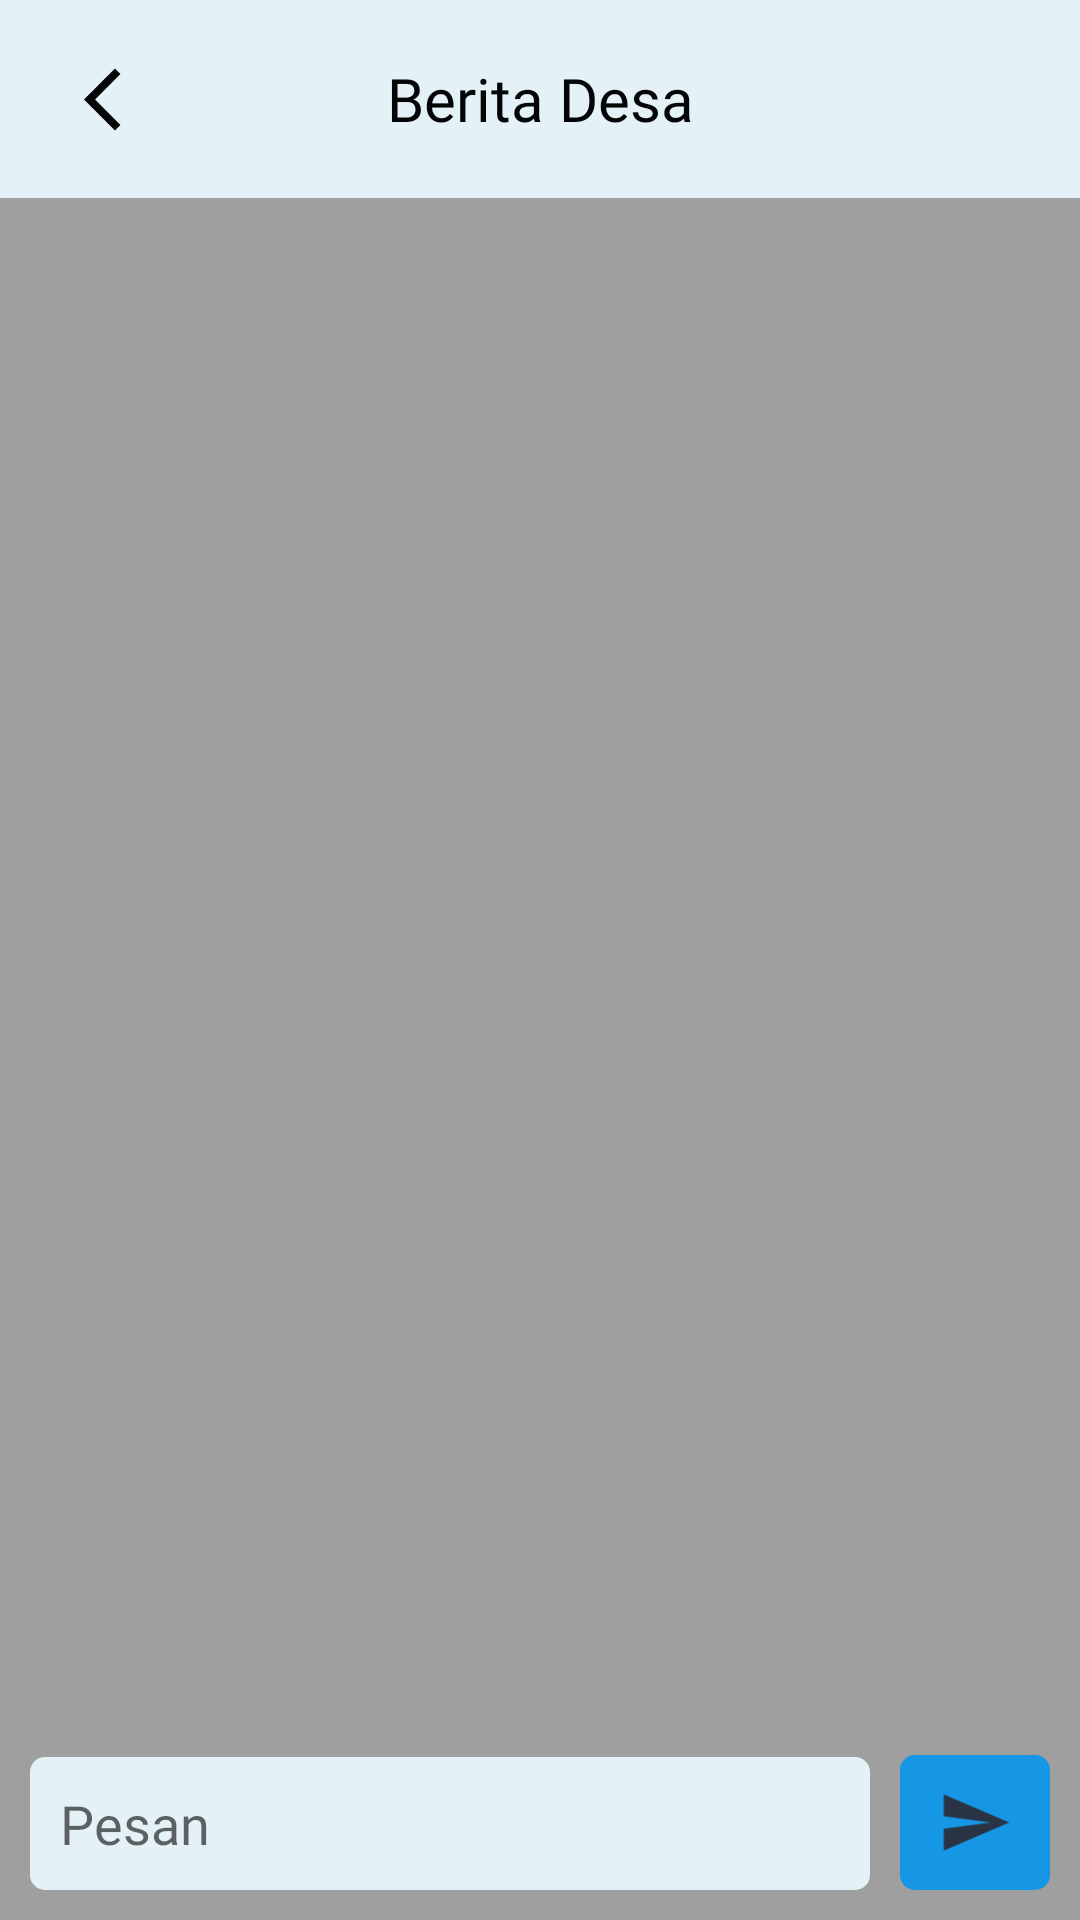

Screen size 1080×1920. Icon name, then its center in pixels as point (x, y):
back: point (102, 99)
send: point (975, 1822)
